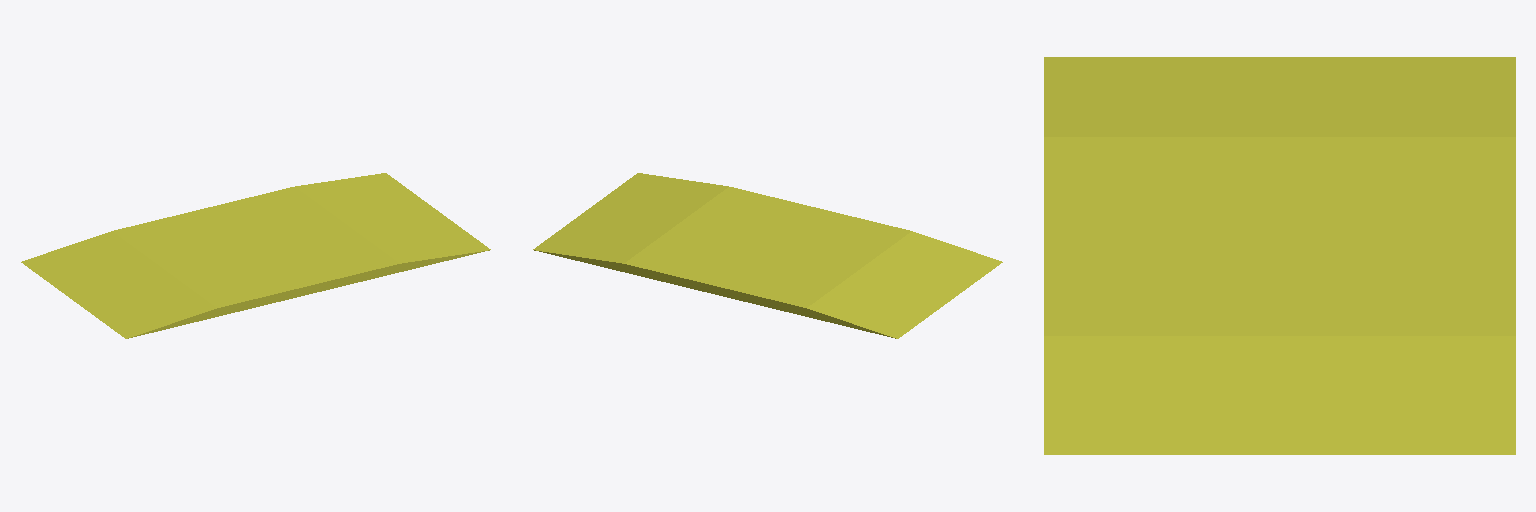
The robot description file, URDF, robot "Part1":
<?xml version="1.0" encoding="utf-8"?>
<!-- This URDF was automatically created by SolidWorks to URDF Exporter! Originally created by [author] ([email redacted]) 
     Commit Version: 1.5.1-0-g916b5db  Build Version: 1.5.7152.31018
     For more information, please see http://wiki.ros.org/sw_urdf_exporter -->
<robot
  name="Part1">
  <link
    name="ramp_5">
    <inertial>
      <origin
        xyz="7.5814E-16 7.67928484115444E-17 -0.005"
        rpy="0 0 0" />
      <mass
        value="500" />
      <inertia
        ixx="180.35"
        ixy="-6.0423E-14"
        ixz="4.7564E-15"
        iyy="450.35"
        iyz="1.08287265732095E-14"
        izz="630" />
    </inertial>
    <visual>
      <origin
        xyz="2.5 0 0"
        rpy="1.5707963267949 0 0" />
      <geometry>
        <mesh
          filename="package://ramp_5/meshes/ramp_5.STL" scale="1.5 1.5 1.5" />
      </geometry>
      <material
        name="">
        <color
          rgba="0.8 0.8 0.3 1" />
        <texture
          filename="package://ramp_5/textures/" />
      </material>
    </visual>
    <collision>
      <origin
        xyz="2.5 0 0"
        rpy="1.5707963267949 0 0" />
      <geometry>
        <mesh
          filename="package://ramp_5/meshes/ramp_5.STL"  scale="1.5 1.5 1.5"/>
      </geometry>
    </collision>
  </link>
</robot>

--- What the picture shows (computed from the rendered views, not written in the file) ---
Views: 3 orthographic renders of the robot side by side, from view 1: azimuth 30°, elevation 25°; view 2: azimuth 150°, elevation 25°; view 3: azimuth 270°, elevation 25°.
Model Part1 with 1 links and 0 joints (none), rooted at ramp_5, posed every joint at zero.
Visible links, largest first — view 1: ramp_5; view 2: ramp_5; view 3: ramp_5.
Boxes of the visible links, bbox=[...] form: ramp_5: bbox=[21, 173, 490, 338]; ramp_5: bbox=[533, 173, 1002, 338]; ramp_5: bbox=[1044, 57, 1515, 454].
Size in the robot's own frame: 6 by 3 by 0.135 metres.
1 mesh visuals loaded from 1 distinct referenced files (1 binary STL).